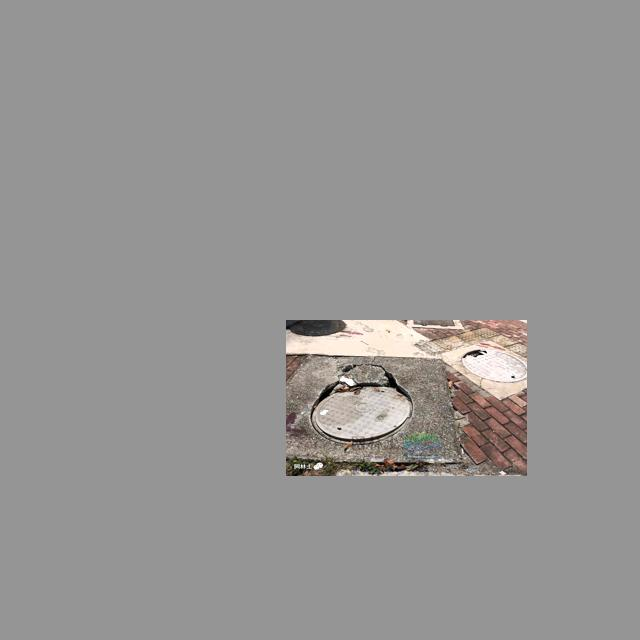circle: (288, 351, 466, 463)
